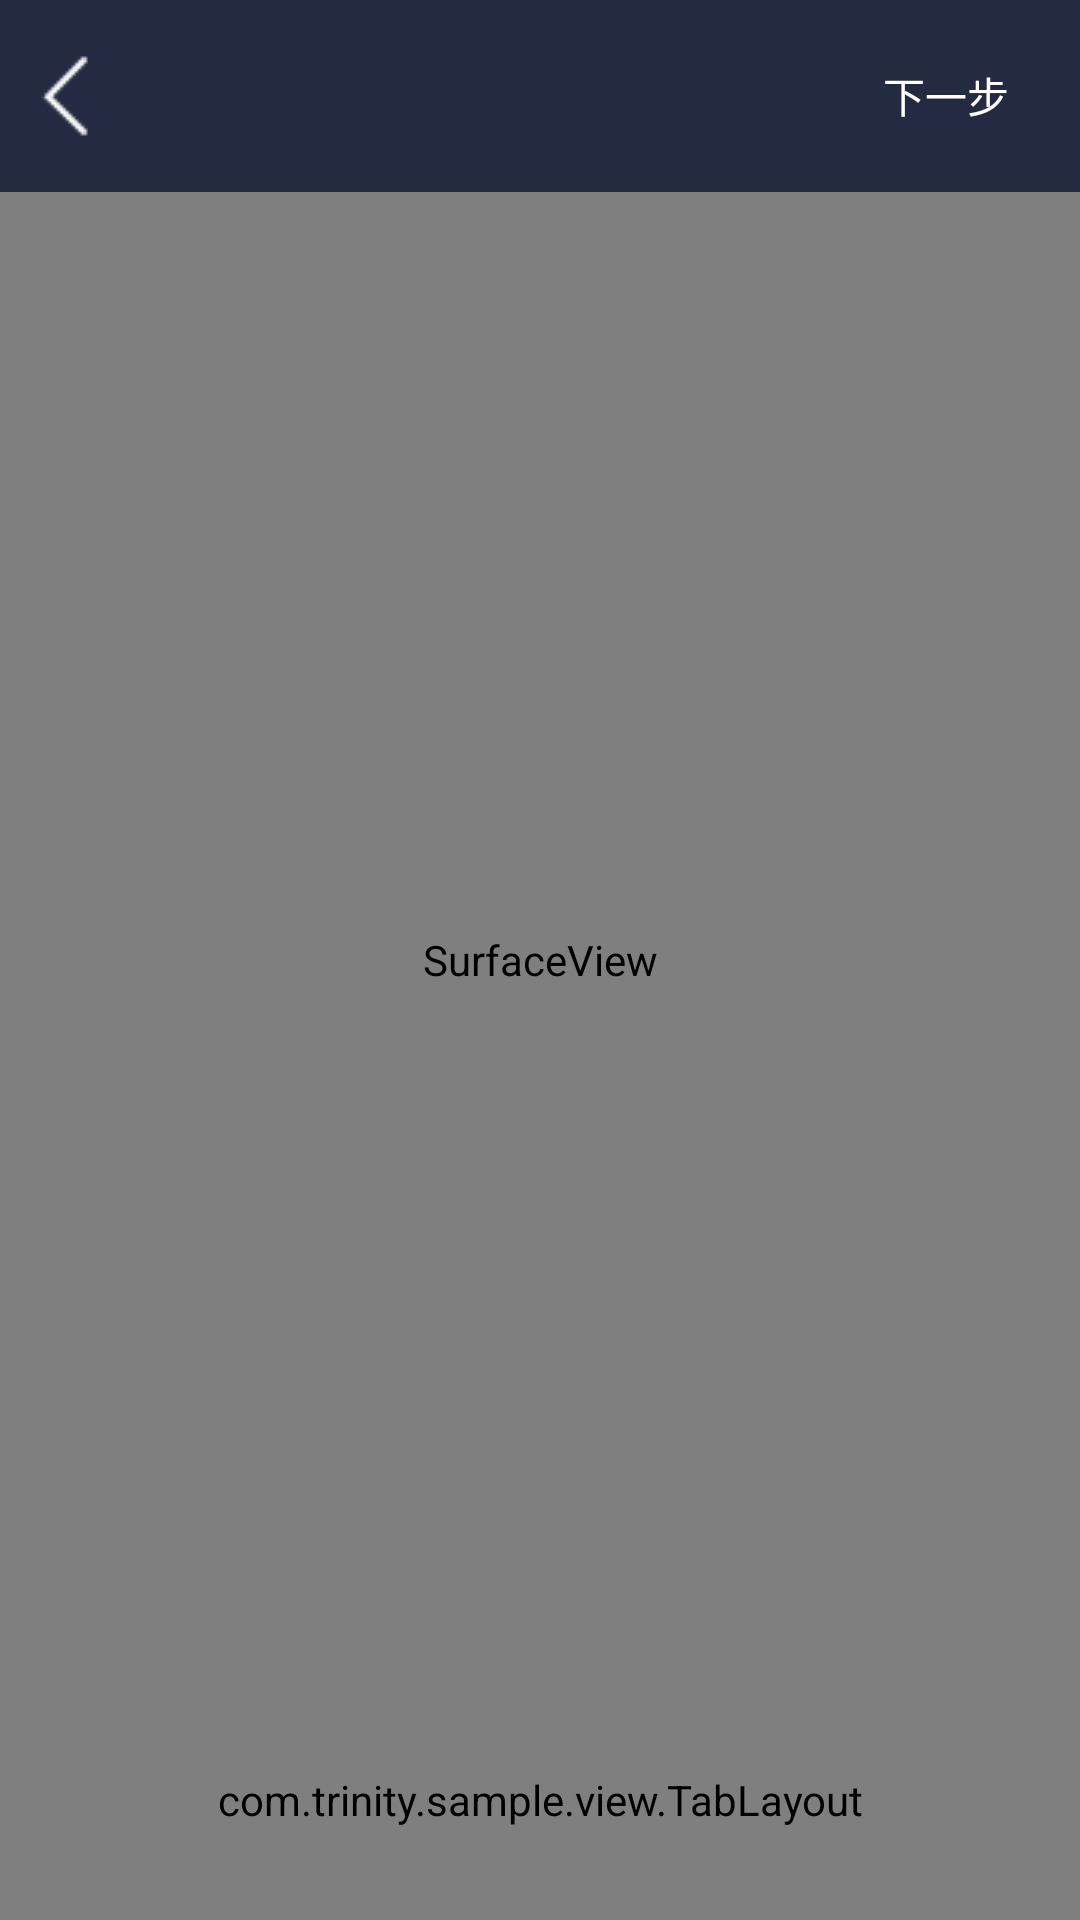

Icon click points for this 1080x1920 phone screenshot, format (x,y):
back: (65,96)
